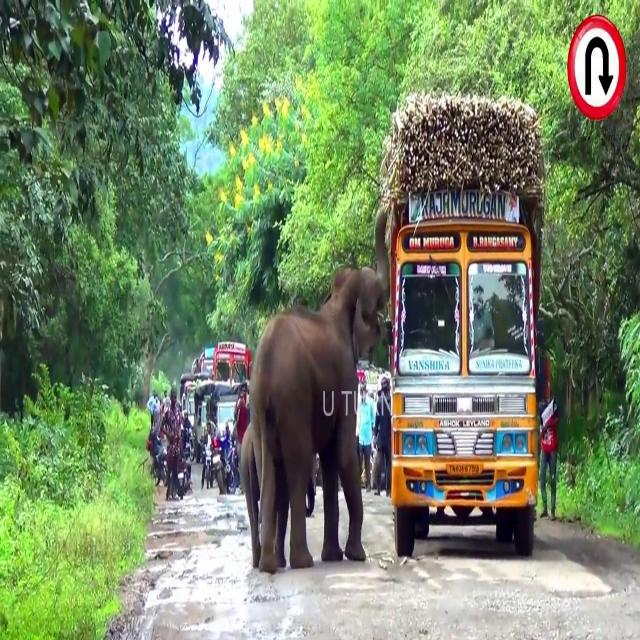Elephant: (243, 264, 386, 575)
